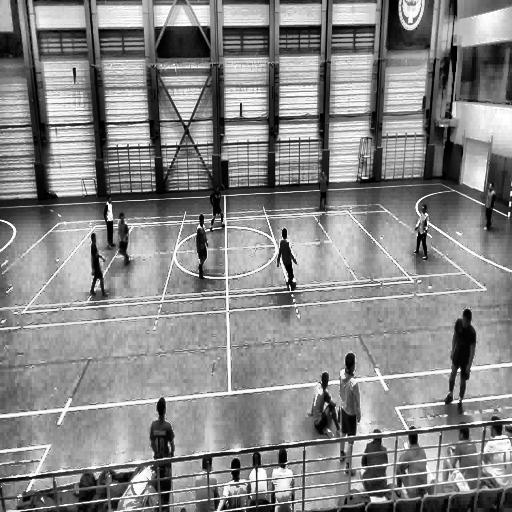ball: (292, 277, 297, 287)
player: (445, 311, 476, 412), (338, 353, 360, 474), (150, 399, 176, 495), (310, 372, 340, 442), (276, 228, 296, 292), (90, 231, 108, 297), (413, 202, 429, 258), (195, 214, 208, 280), (103, 194, 117, 252), (209, 186, 225, 230), (117, 212, 130, 266), (483, 180, 496, 231), (318, 170, 328, 212)
